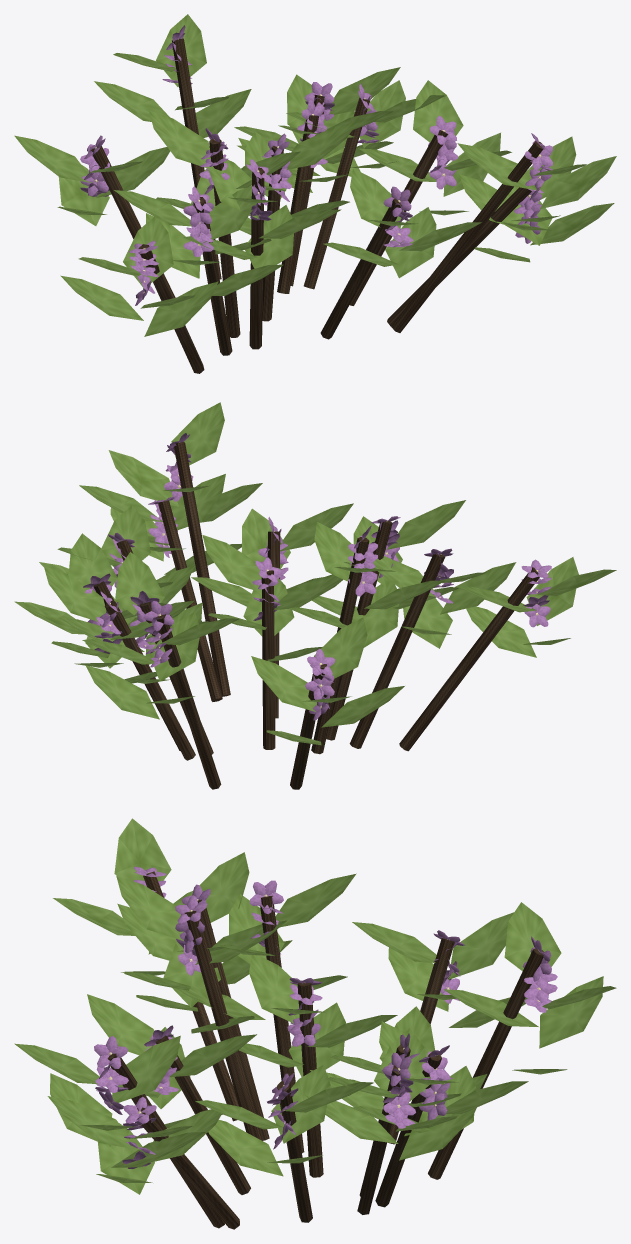
File: heather_patch.glb
The picture shows the model from 3 angles, top to bottom: view 1: azimuth 30°, elevation 25°; view 2: azimuth 150°, elevation 25°; view 3: azimuth 270°, elevation 25°; orthographic projection. The views are drawn at different scales.
Visible parts, largest first — view 1: heather_patch; view 2: heather_patch; view 3: heather_patch.
Boxes of the visible parts, box(x1,y1,x2,y2) form: heather_patch: box(14, 14, 616, 373); heather_patch: box(14, 402, 616, 789); heather_patch: box(14, 818, 616, 1229).
Bounding box in the file's own units: 1.77 × 0.7271 × 1.56.
Materials: 1 (1 with a texture image).
